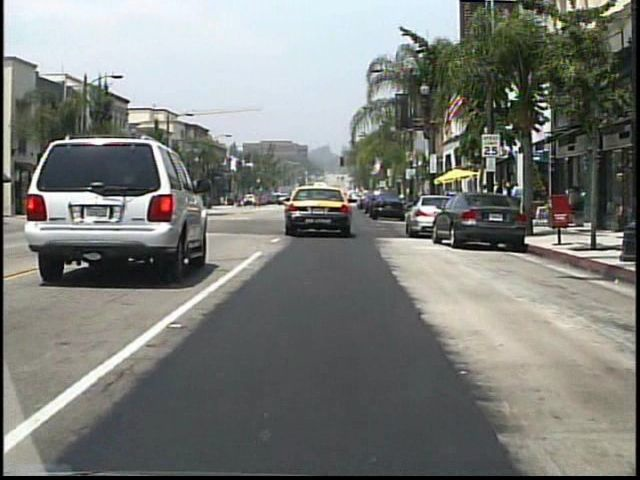person: (509, 180, 525, 223), (495, 177, 513, 215), (491, 180, 505, 217), (503, 183, 515, 216), (274, 190, 282, 206)
